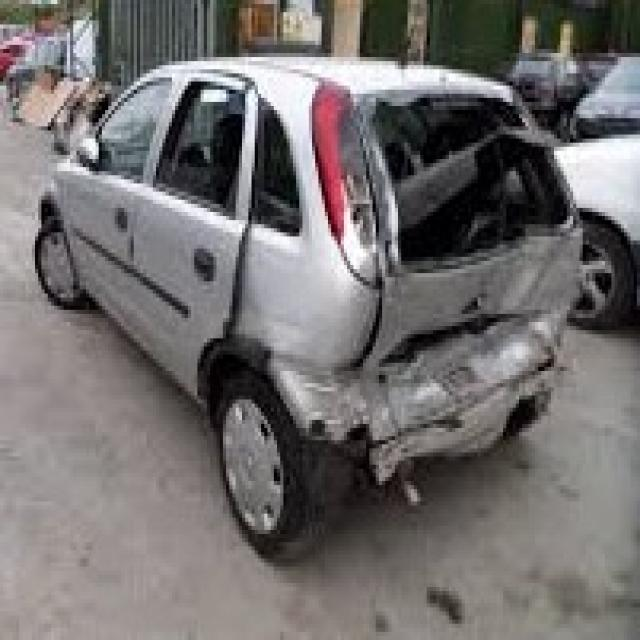severe: (310, 46, 590, 538)
